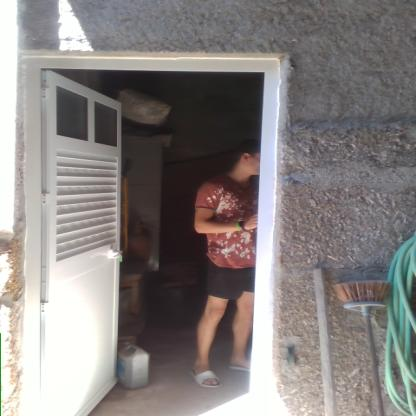open: (12, 45, 291, 415)
